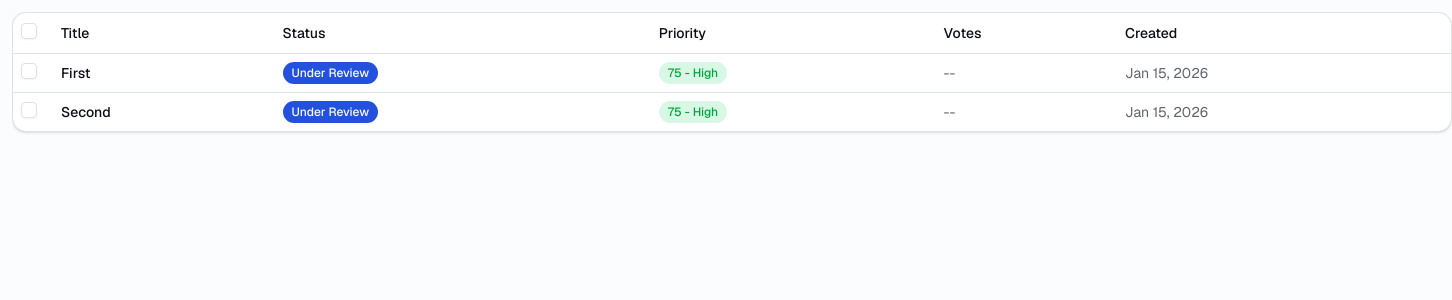
Test: BulkRequestTable › reports partial archive failures and keeps unsuccessful rows selected
This screenshot has width=1452, height=300.
Click the checkbox named "Select all": (29, 31) 21,23 -> 37,39
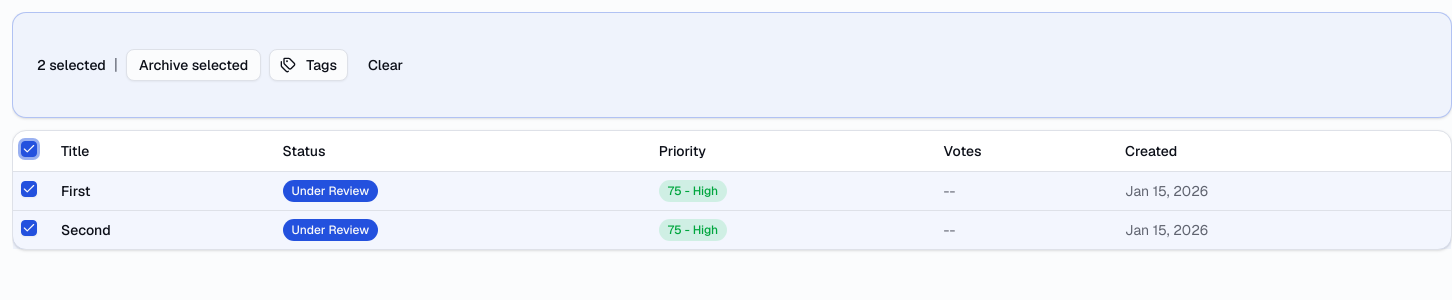
Click the button "Archive selected": (194, 65) 126,49 -> 261,81
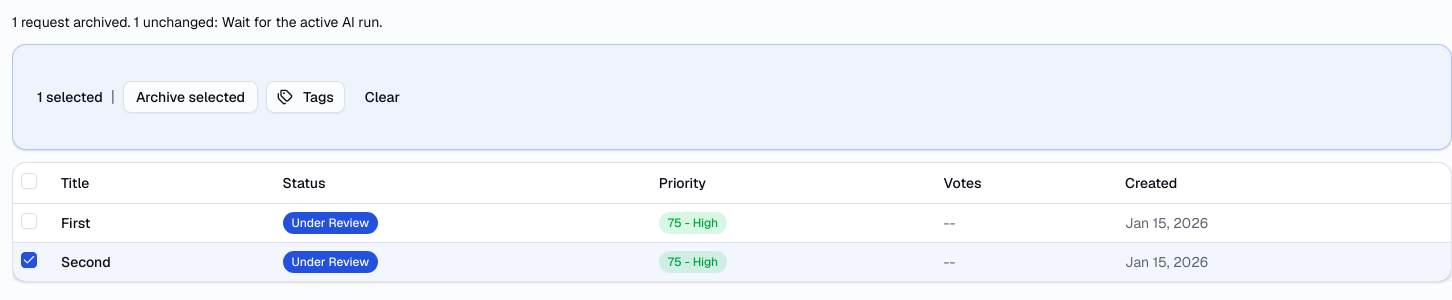
Check: the checkbox named "Select Second" is checked, box 21,252 -> 37,268
Check: the message reads "1 request archived. 1 unchanged: Wait for the active AI run.", box 12,13 -> 382,31
Check: the checkbox named "Select First" is not checked, box 21,212 -> 37,228
